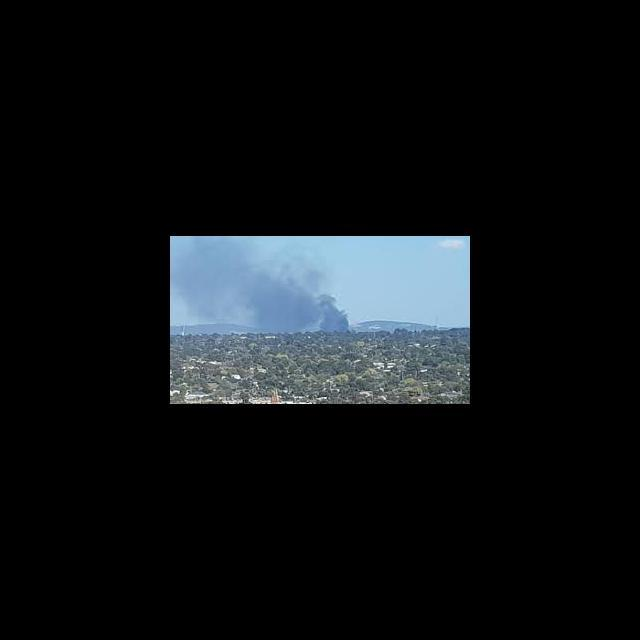Smoke: (182, 243, 258, 316), (258, 270, 315, 329), (317, 295, 348, 329)
